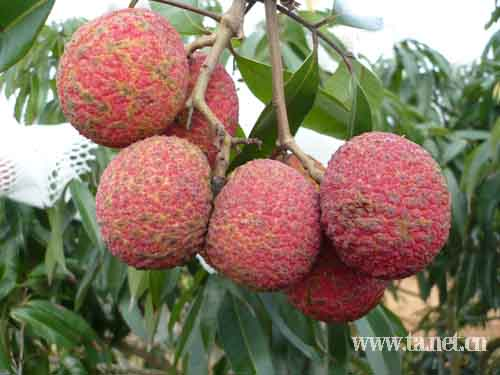litchi: (65, 15, 441, 314)
